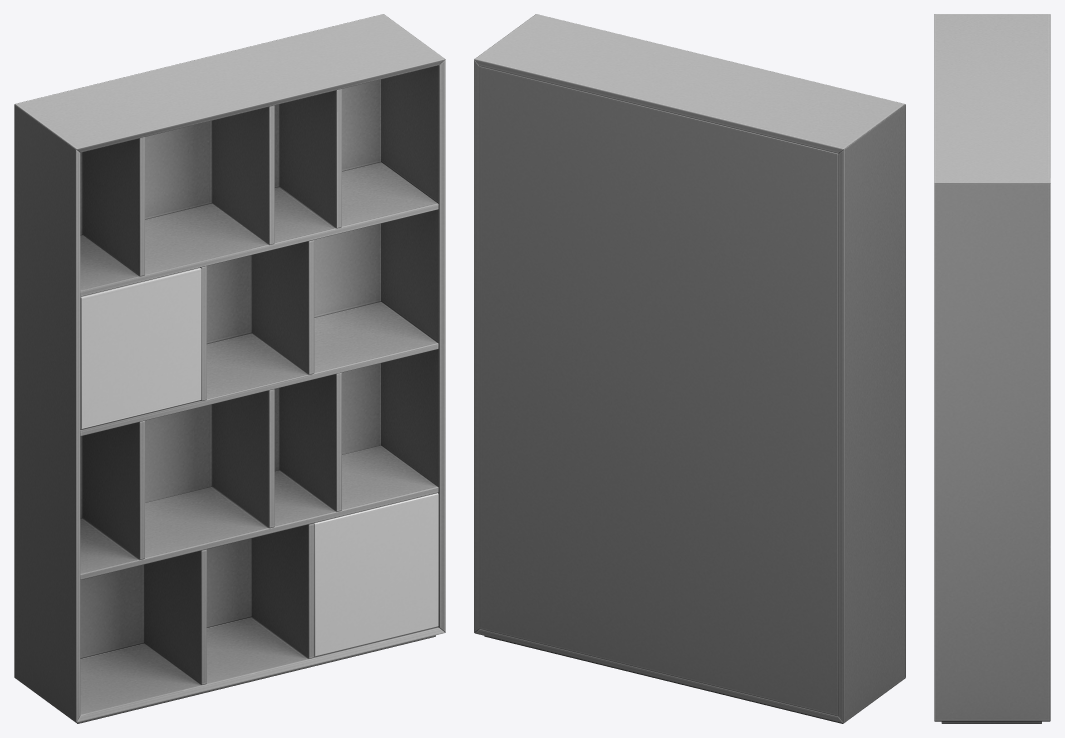
The model's file is stretto_large_shelves_grey.glb.
3 views of the same model, side by side, from view 1: azimuth 30°, elevation 25°; view 2: azimuth 150°, elevation 25°; view 3: azimuth 270°, elevation 25° (orthographic). The views are drawn at different scales.
Parts seen in each view (by area): view 1: Stretto_Large_Shelves_1; view 2: Stretto_Large_Shelves_1; view 3: Stretto_Large_Shelves_1.
Boxes of the visible parts, box(x1,y1,x2,y2) form: Stretto_Large_Shelves_1: box(14, 14, 445, 723); Stretto_Large_Shelves_1: box(474, 14, 905, 723); Stretto_Large_Shelves_1: box(934, 14, 1050, 723).
Size of what is drawn, in the model's own units: 120 by 180 by 34.84.
1 material, 1 textured.
